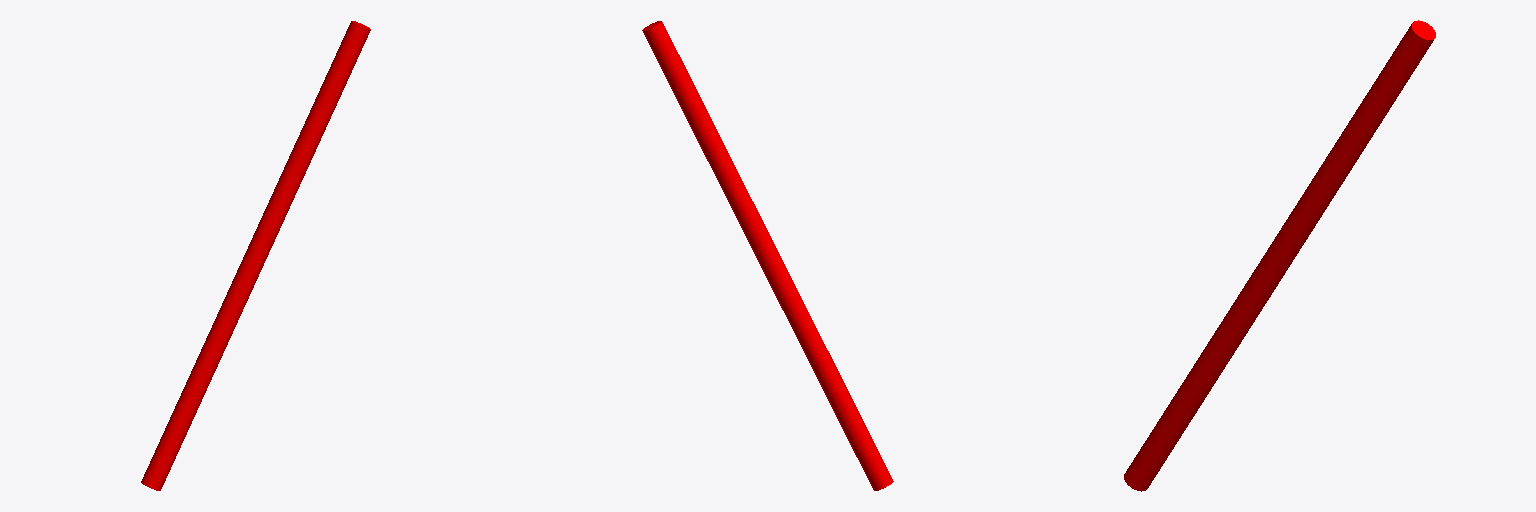
robot.urdf — tree_22.urdf:
<?xml version='1.0' encoding='utf-8'?>
<robot name="tree_22.urdf">
  <link name="branch_0">
    <inertial>
      <origin xyz="0.0 0.0 0.0" rpy="0.0 -0.0 0.0" />
      <mass value="1.0" />
      <inertia ixx="1.0" ixy="0.0" ixz="0.0" iyy="1.0" iyz="0.0" izz="1.0" />
    </inertial>
    <visual name="branch_0_visual">
      <geometry>
        <cylinder radius="0.07082931836432933" length="3.3361616993822953" />
      </geometry>
      <material name="semantic_material" />
      <origin xyz="0.8235391694716065 0.05222973556745962 1.449672036073991" rpy="6.924980939643009e-18 0.5174855590466034 0.06333624350589118" />
    </visual>
    <collision name="branch_0_collision">
      <geometry>
        <cylinder radius="0.07082931836432933" length="3.3361616993822953" />
      </geometry>
      <origin xyz="0.8235391694716065 0.05222973556745962 1.449672036073991" rpy="6.924980939643009e-18 0.5174855590466034 0.06333624350589118" />
    </collision>
  </link>
  <material name="semantic_material">
    <color rgba="1. 0. 0. 1." />
  </material>
</robot>

--- Facts derived from the render (not from the file) ---
3 views of the same robot in one strip: view 1: azimuth 30°, elevation 25°; view 2: azimuth 150°, elevation 25°; view 3: azimuth 330°, elevation 25° (orthographic).
Robot: tree_22.urdf — 1 links, 0 joints (none); root link branch_0; default pose: every joint at zero.
Visible links, largest first — view 1: branch_0; view 2: branch_0; view 3: branch_0.
Boxes of the visible links, <box> form: branch_0: <box>141,21,370,490</box>; branch_0: <box>642,21,893,490</box>; branch_0: <box>1124,20,1435,491</box>.
Size in the robot's own frame: 1.77 by 0.2458 by 2.97 metres.
Geometry: primitives only (box / cylinder / sphere), no mesh files.